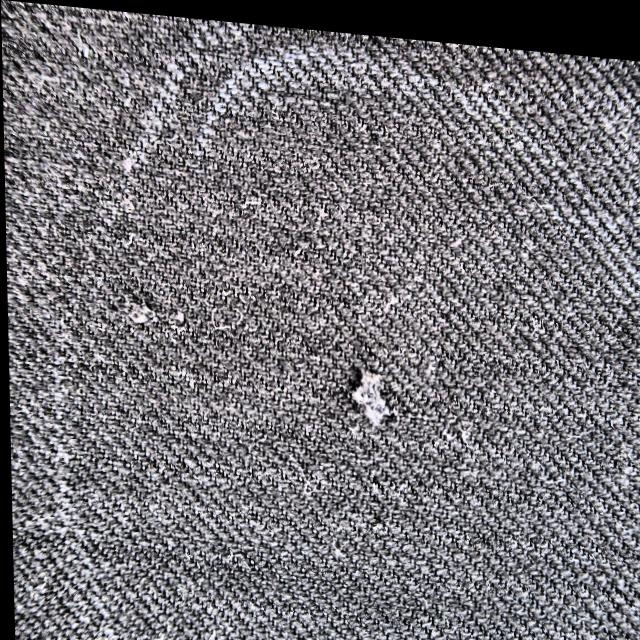Hole: (305, 300, 432, 486)
